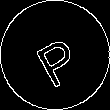P_NW: (27, 24, 83, 86)
